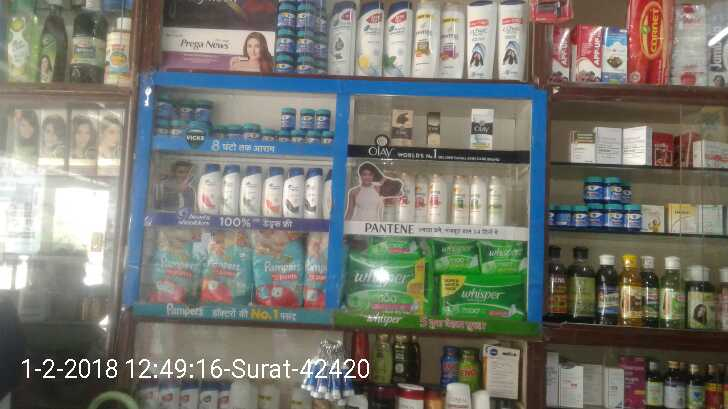beauty: (356, 1, 385, 77), (387, 6, 414, 78), (329, 3, 356, 72), (304, 167, 328, 219), (219, 163, 241, 216), (263, 161, 285, 214), (469, 107, 495, 151), (199, 162, 221, 211), (391, 107, 415, 148), (285, 168, 303, 220), (244, 167, 263, 216)
pharmacy: (158, 99, 345, 153), (549, 170, 646, 236), (344, 256, 425, 317), (248, 227, 304, 309), (440, 272, 528, 320), (145, 230, 200, 305), (200, 230, 253, 307), (276, 1, 329, 70)
